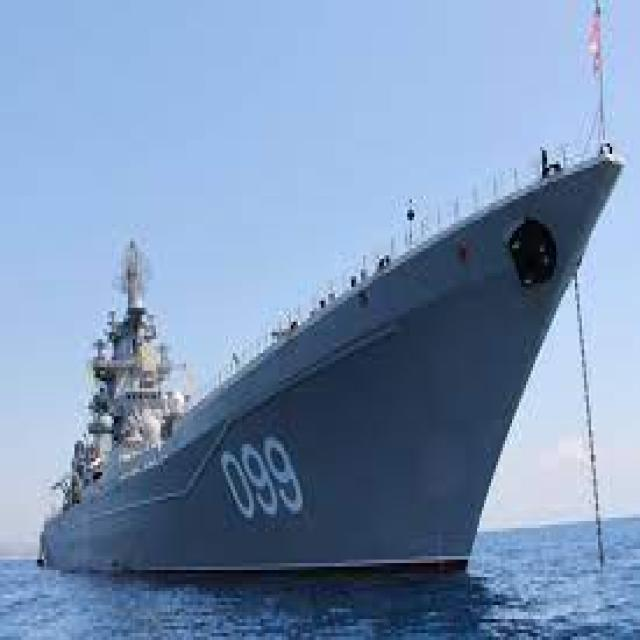navalvessels: (41, 128, 626, 618)
